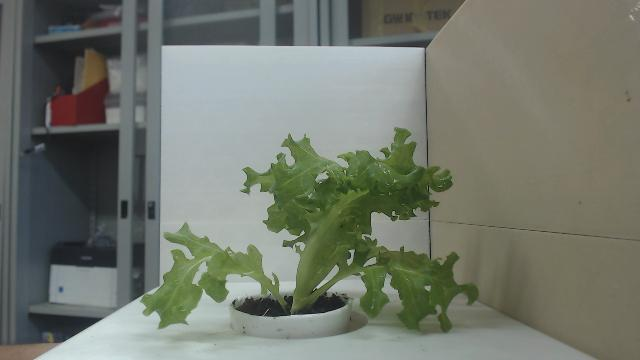Harvest Stage: (140, 127, 482, 338)
